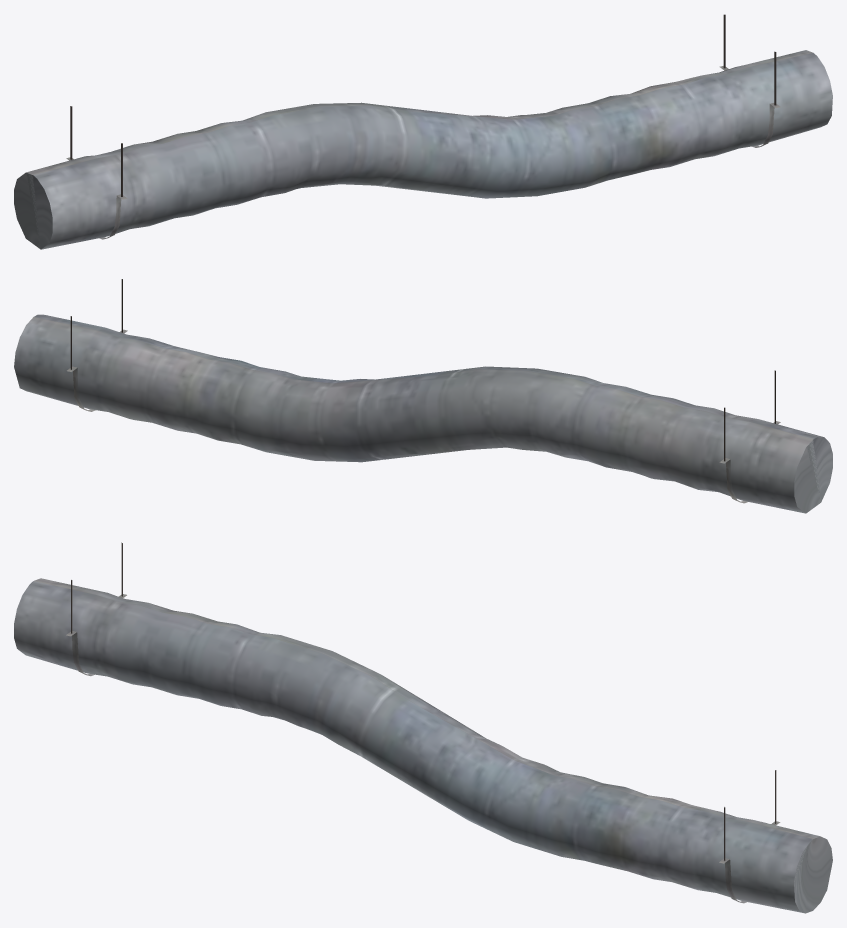
Rendered from air_duct_300_c.glb.
The picture shows the model from 3 angles, top to bottom: view 1: azimuth 30°, elevation 25°; view 2: azimuth 150°, elevation 25°; view 3: azimuth 330°, elevation 25°; orthographic projection.
Parts seen in each view (by area): view 1: air_duct_300_c; view 2: air_duct_300_c; view 3: air_duct_300_c.
Boxes of the visible parts, x1,y1,x2,y2 form: air_duct_300_c: (14,14,832,249); air_duct_300_c: (14,279,832,513); air_duct_300_c: (14,542,832,913).
Bounding box in the file's own units: 3.01 × 0.6591 × 0.3786.
1 material, 1 textured.
